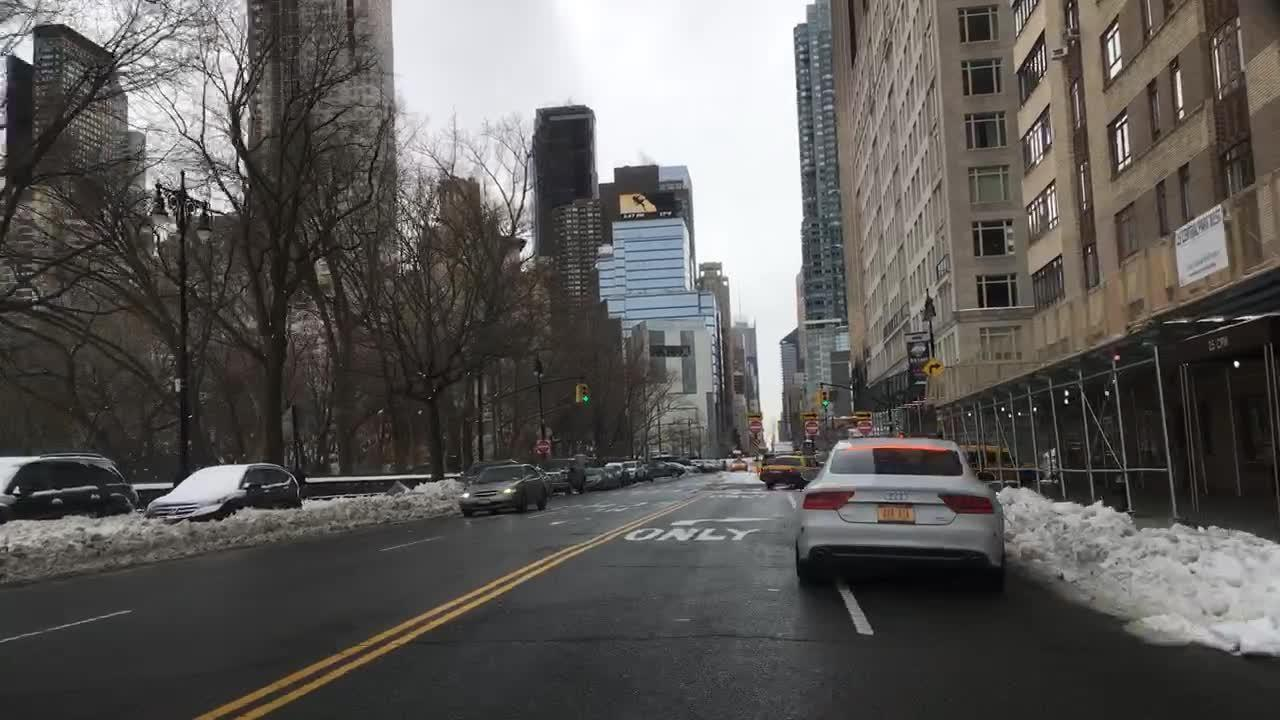Audi: (880, 488, 912, 503)
